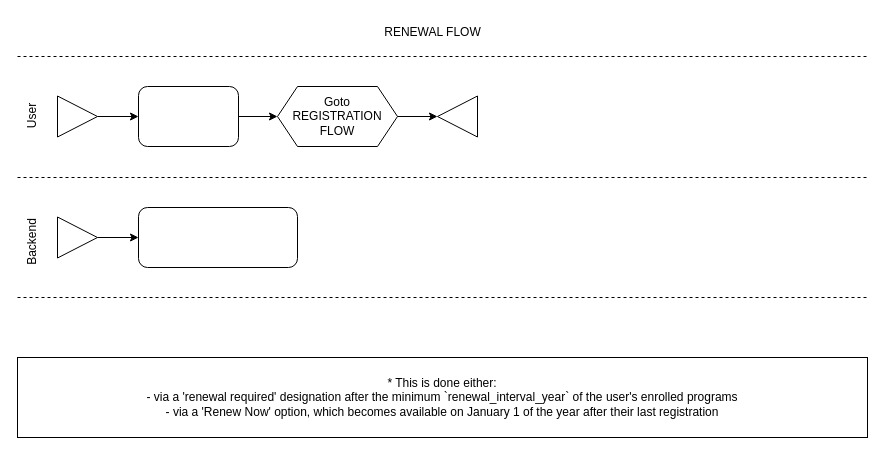
This 886x455 diagram has some shape labels left out. The shapes that lost their labels are listed below. From the top down, each one's box as (x1, y1, x2, y2) in pixels, then its label:
(138, 86, 238, 146): Start 'renewal' from dashboard*
(138, 206, 298, 268): Sends user a monthly email reminder once they need to renew
